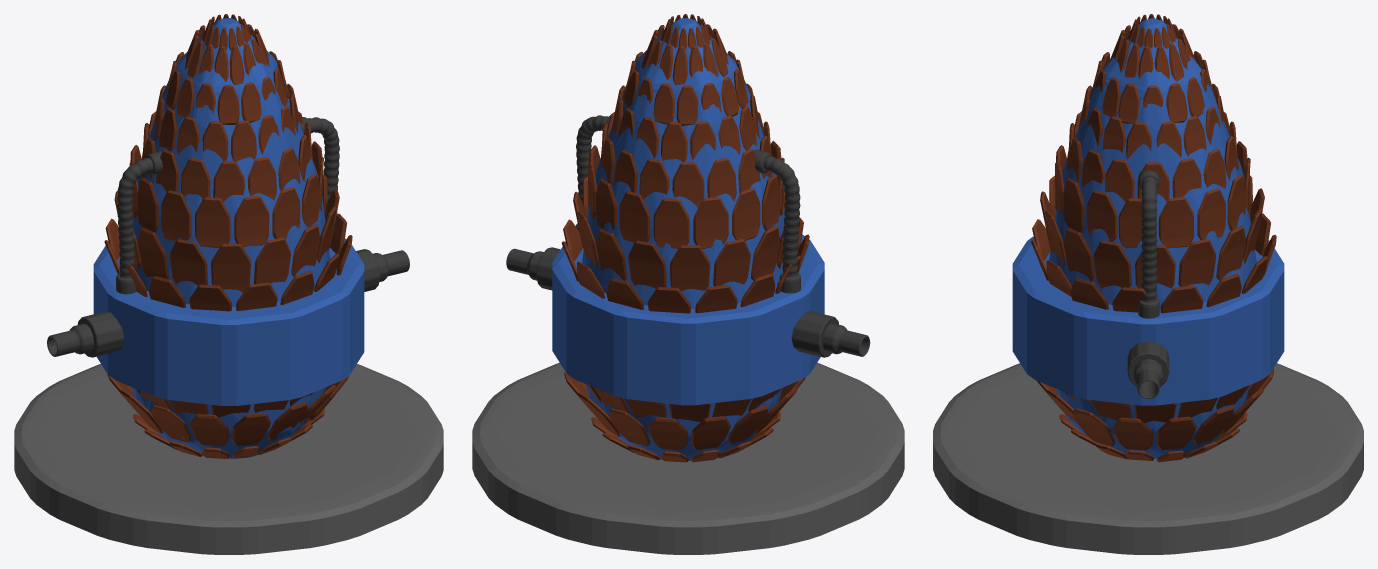
The model's file is defence_BapNgo_1.fbx.
3 views of the same model, side by side, from view 1: azimuth 30°, elevation 25°; view 2: azimuth 150°, elevation 25°; view 3: azimuth 270°, elevation 25° (orthographic).
Visible parts, largest first — view 1: Turret_4_Level_1_Weapon, Turret_4_Level_1_Base; view 2: Turret_4_Level_1_Weapon, Turret_4_Level_1_Base; view 3: Turret_4_Level_1_Weapon, Turret_4_Level_1_Base.
Boxes of the visible parts, x1=… form: Turret_4_Level_1_Weapon: x1=47, y1=14, x2=409, y2=458; Turret_4_Level_1_Base: x1=14, y1=364, x2=443, y2=554; Turret_4_Level_1_Weapon: x1=506, y1=14, x2=870, y2=462; Turret_4_Level_1_Base: x1=472, y1=362, x2=904, y2=554; Turret_4_Level_1_Weapon: x1=1012, y1=14, x2=1284, y2=462; Turret_4_Level_1_Base: x1=933, y1=363, x2=1363, y2=554.
Bounding box in the file's own units: 385 × 441 × 385.
